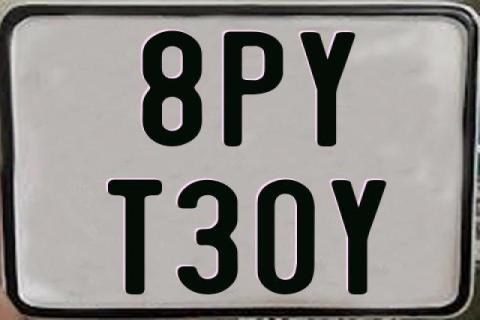0: (142, 29, 208, 145), (177, 180, 240, 296), (256, 177, 317, 293)
P: (224, 30, 286, 148)
T: (107, 177, 162, 292)
Y: (331, 180, 392, 298), (298, 30, 356, 148)
